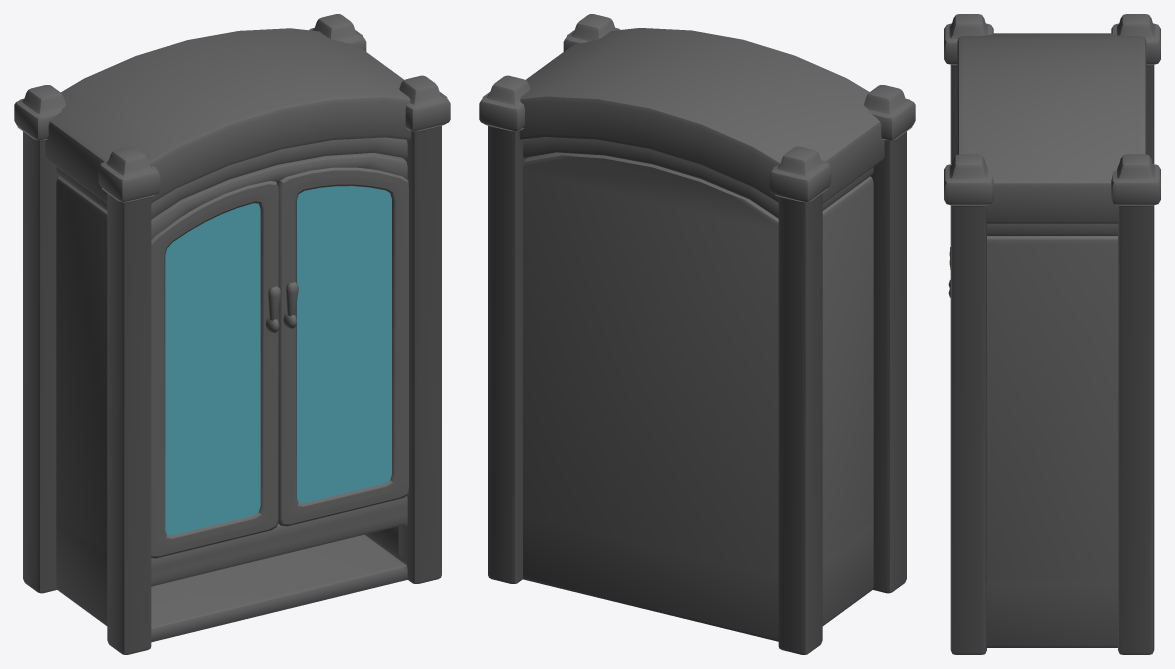
Rendered from SM_cupboard_02.fbx.
The picture shows the model from 3 angles, left to right: view 1: azimuth 30°, elevation 25°; view 2: azimuth 150°, elevation 25°; view 3: azimuth 270°, elevation 25°; orthographic projection.
Visible parts, largest first — view 1: Box362; view 2: Box362; view 3: Box362.
Boxes of the visible parts, <box> form: Box362: <box>14,14,450,654</box>; Box362: <box>479,14,915,654</box>; Box362: <box>944,14,1160,654</box>.
Bounding box in the file's own units: 72.24 × 106 × 41.36.
